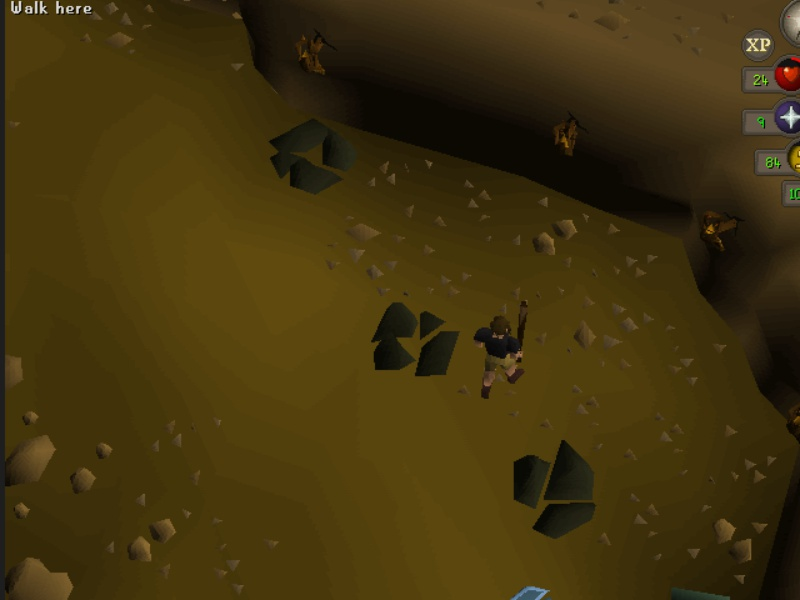coal: (509, 436, 604, 544), (367, 296, 464, 386), (265, 113, 359, 201)
